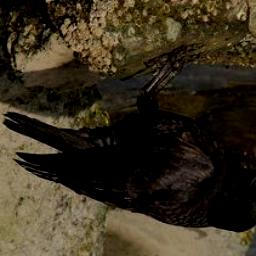Crow: (4, 44, 256, 236)
